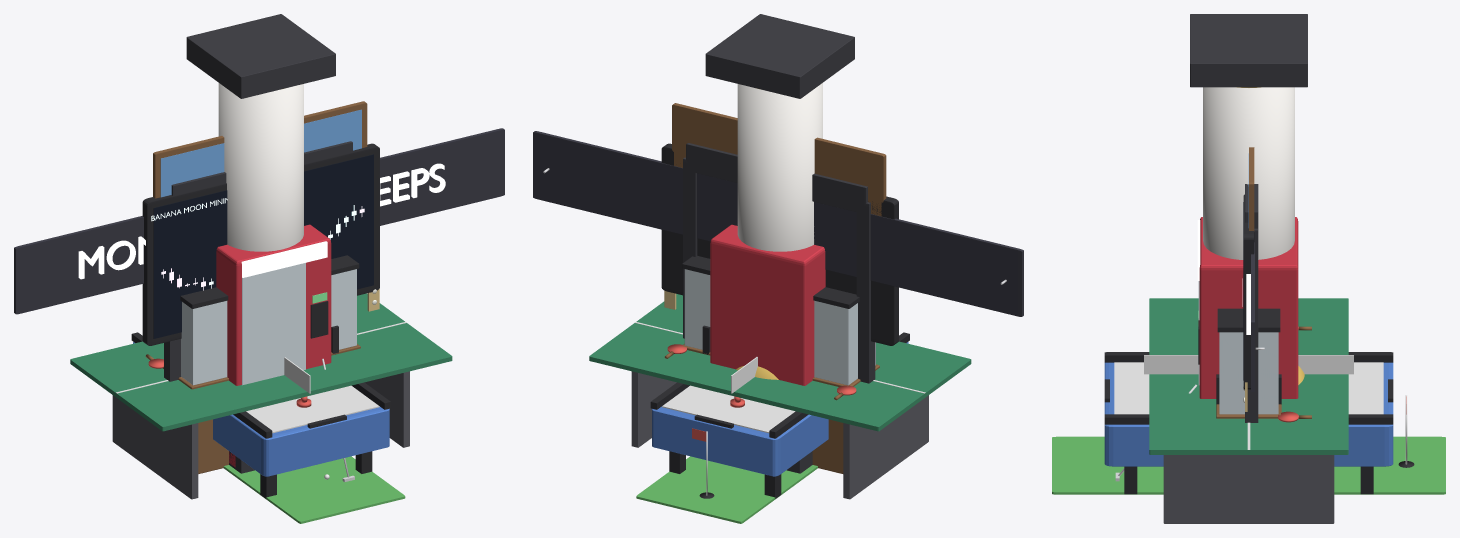
Rendered from PropPack1.fbx.
3 renders of one model, left to right at view 1: azimuth 30°, elevation 25°; view 2: azimuth 150°, elevation 25°; view 3: azimuth 270°, elevation 25°, orthographic. The views are drawn at different scales.
Visible parts, largest first — view 1: Glass_Backer.002, Wood_PPGreen, Glass_TradeScreen.001, Marble_White, Marble_Black.004, Plastic_AHBlue, Glass_Clear.015, Metal_Graphite.007, Grass_Putting, Metal_VendRed, Glass_Clear.005, Plastic_Black.051 (+10 smaller); view 2: Glass_Backer.002, Wood_PPGreen, Metal_VendRed, Marble_White, Marble_Black.004, Marble_Black.005, Plastic_AHBlue, Metal_Graphite.007, Wood_Walnut.020, Grass_Putting, Glass_Clear.005, Plastic_Black.051 (+4 smaller); view 3: Wood_PPGreen, Marble_White, Metal_Graphite.007, Grass_Putting, Marble_Black.004, Metal_VendRed, Plastic_AHBlue, Glass_Clear.005, Plastic_White, Plastic_Black, Fabric_Net, Marble_Black.005 (+4 smaller).
Boxes of the visible parts, bbox=[...] form: Glass_Backer.002: bbox=[14, 128, 504, 314]; Wood_PPGreen: bbox=[70, 293, 452, 431]; Glass_TradeScreen.001: bbox=[153, 154, 373, 338]; Marble_White: bbox=[218, 83, 303, 251]; Marble_Black.004: bbox=[186, 14, 335, 473]; Plastic_AHBlue: bbox=[133, 342, 389, 476]; Glass_Clear.015: bbox=[242, 263, 305, 385]; Metal_Graphite.007: bbox=[112, 371, 409, 499]; Grass_Putting: bbox=[223, 456, 405, 523]; Metal_VendRed: bbox=[216, 224, 331, 467]; Glass_Clear.005: bbox=[181, 269, 356, 385]; Plastic_Black.051: bbox=[142, 143, 379, 345]; Glass_Backer.002: bbox=[533, 131, 1023, 316]; Wood_PPGreen: bbox=[589, 294, 971, 431]; Metal_VendRed: bbox=[710, 224, 825, 385]; Marble_White: bbox=[737, 83, 822, 251]; Marble_Black.004: bbox=[705, 14, 854, 473]; Marble_Black.005: bbox=[683, 143, 875, 383]; Plastic_AHBlue: bbox=[652, 342, 908, 476]; Metal_Graphite.007: bbox=[631, 371, 928, 499]; Wood_Walnut.020: bbox=[672, 103, 886, 216]; Grass_Putting: bbox=[636, 456, 817, 523]; Glass_Clear.005: bbox=[684, 269, 875, 385]; Plastic_Black.051: bbox=[661, 143, 898, 345]; Wood_PPGreen: bbox=[1149, 298, 1348, 454]; Marble_White: bbox=[1203, 87, 1294, 259]; Metal_Graphite.007: bbox=[1163, 455, 1334, 523]; Grass_Putting: bbox=[1052, 436, 1445, 494]; Marble_Black.004: bbox=[1190, 14, 1307, 87]; Metal_VendRed: bbox=[1199, 217, 1298, 398]; Plastic_AHBlue: bbox=[1104, 362, 1393, 466]; Glass_Clear.005: bbox=[1219, 332, 1278, 414]; Plastic_White: bbox=[1114, 362, 1383, 414]; Plastic_Black: bbox=[1104, 352, 1393, 494]; Fabric_Net: bbox=[1144, 355, 1353, 374]; Marble_Black.005: bbox=[1245, 184, 1258, 422].
Size of the model in its own units: 462 by 367 by 300.
